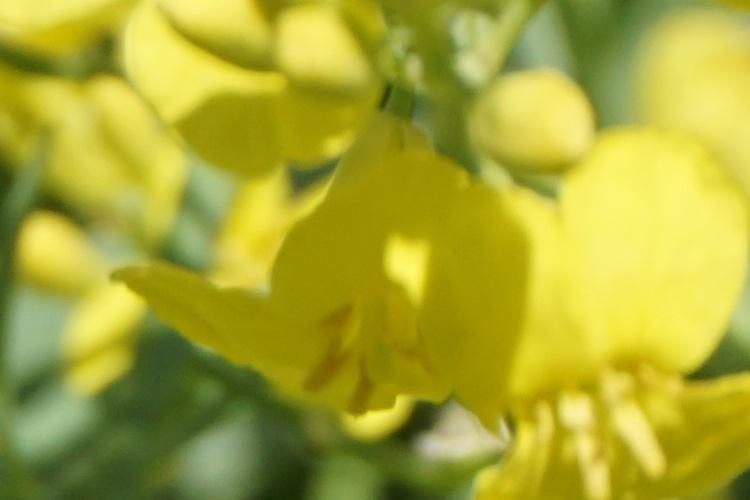bud: (462, 69, 597, 173)
yellow: (459, 160, 750, 485), (166, 132, 488, 420)
